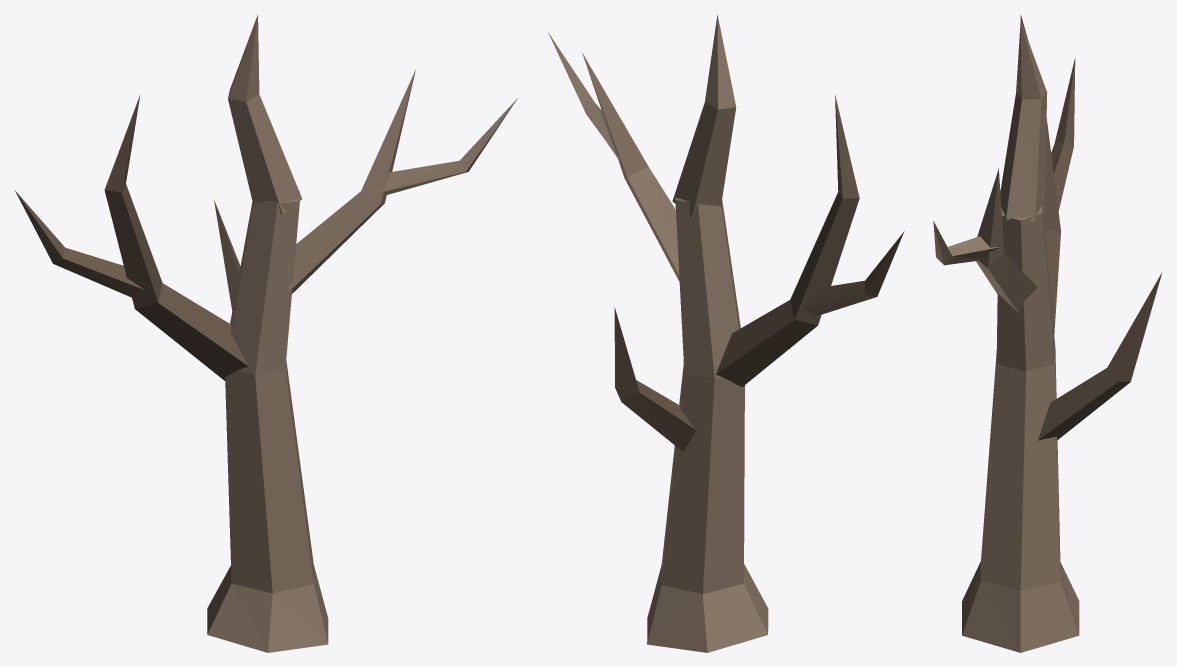
File: dead_tree.glb
The picture shows the model from 3 angles, left to right: view 1: azimuth 30°, elevation 25°; view 2: azimuth 150°, elevation 25°; view 3: azimuth 270°, elevation 25°; orthographic projection. The views are drawn at different scales.
Parts seen in each view (by area): view 1: dead_tree; view 2: dead_tree; view 3: dead_tree.
Boxes of the visible parts, <box> form: dead_tree: <box>15,14,517,652</box>; dead_tree: <box>547,14,904,652</box>; dead_tree: <box>933,14,1162,652</box>.
Bounding box in the file's own units: 0.4355 × 0.6 × 0.2079.
